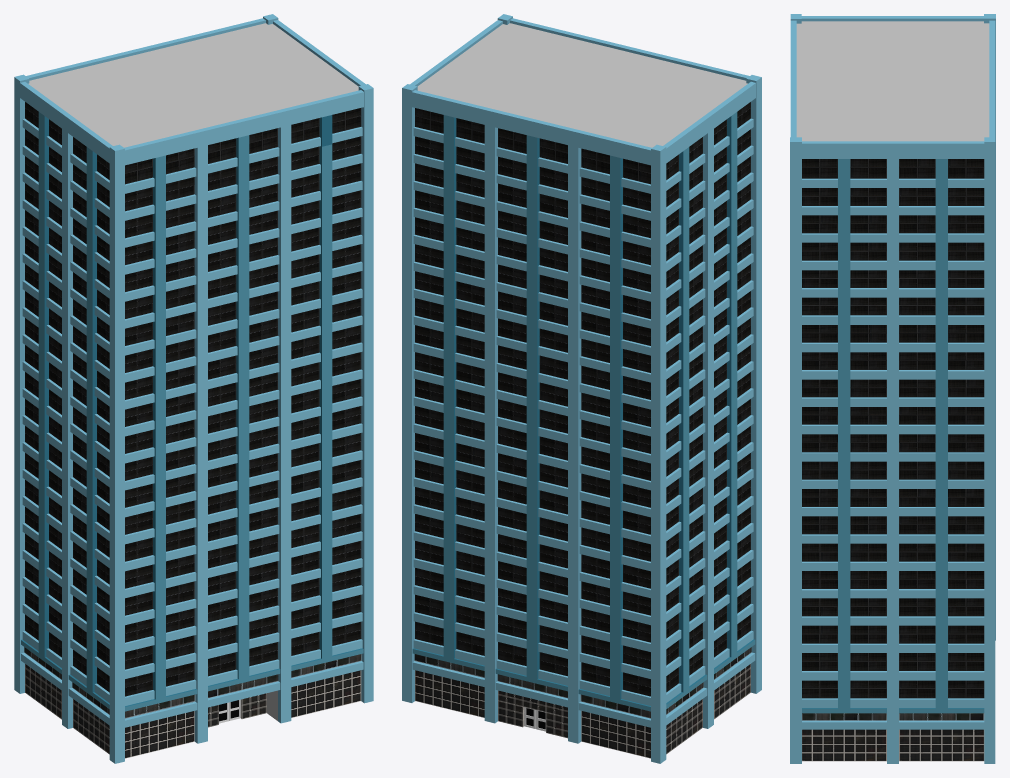
The model's file is Office-01.fbx.
The picture shows the model from 3 angles, left to right: view 1: azimuth 30°, elevation 25°; view 2: azimuth 150°, elevation 25°; view 3: azimuth 270°, elevation 25°; orthographic projection.
Visible parts, largest first — view 1: Building; view 2: Building; view 3: Building.
Part boxes in pixels (x1,y1,x2,y2): Building: [14, 14, 373, 763]; Building: [402, 14, 761, 763]; Building: [790, 14, 995, 763].
Size of what is drawn, in the model's own units: 30.14 by 68.2 by 20.44.
